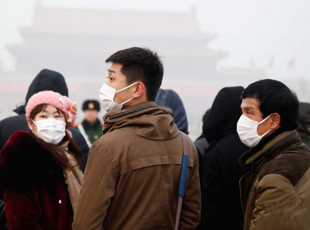face: (84, 105, 97, 120)
face_mask: (33, 106, 66, 143), (237, 96, 262, 144), (103, 62, 123, 109)
